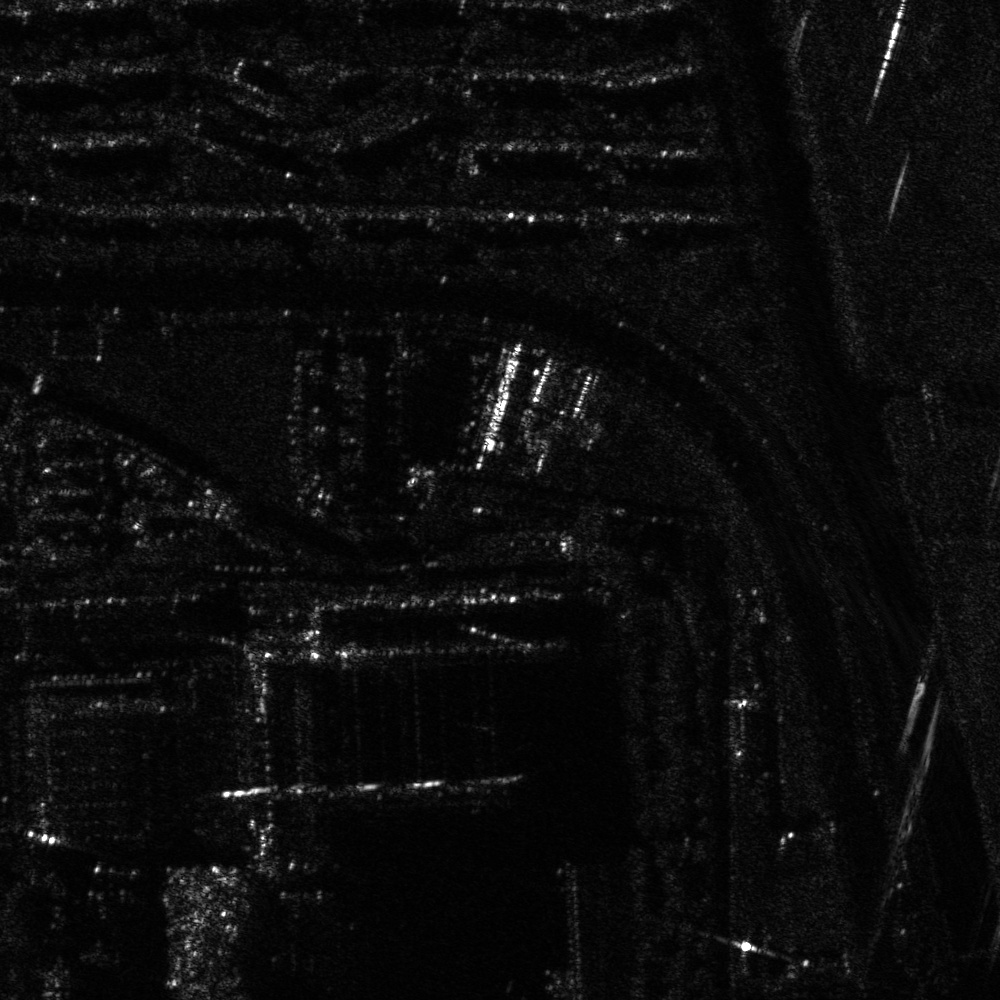Boeing737: (238, 856, 357, 974), (45, 863, 160, 969)
